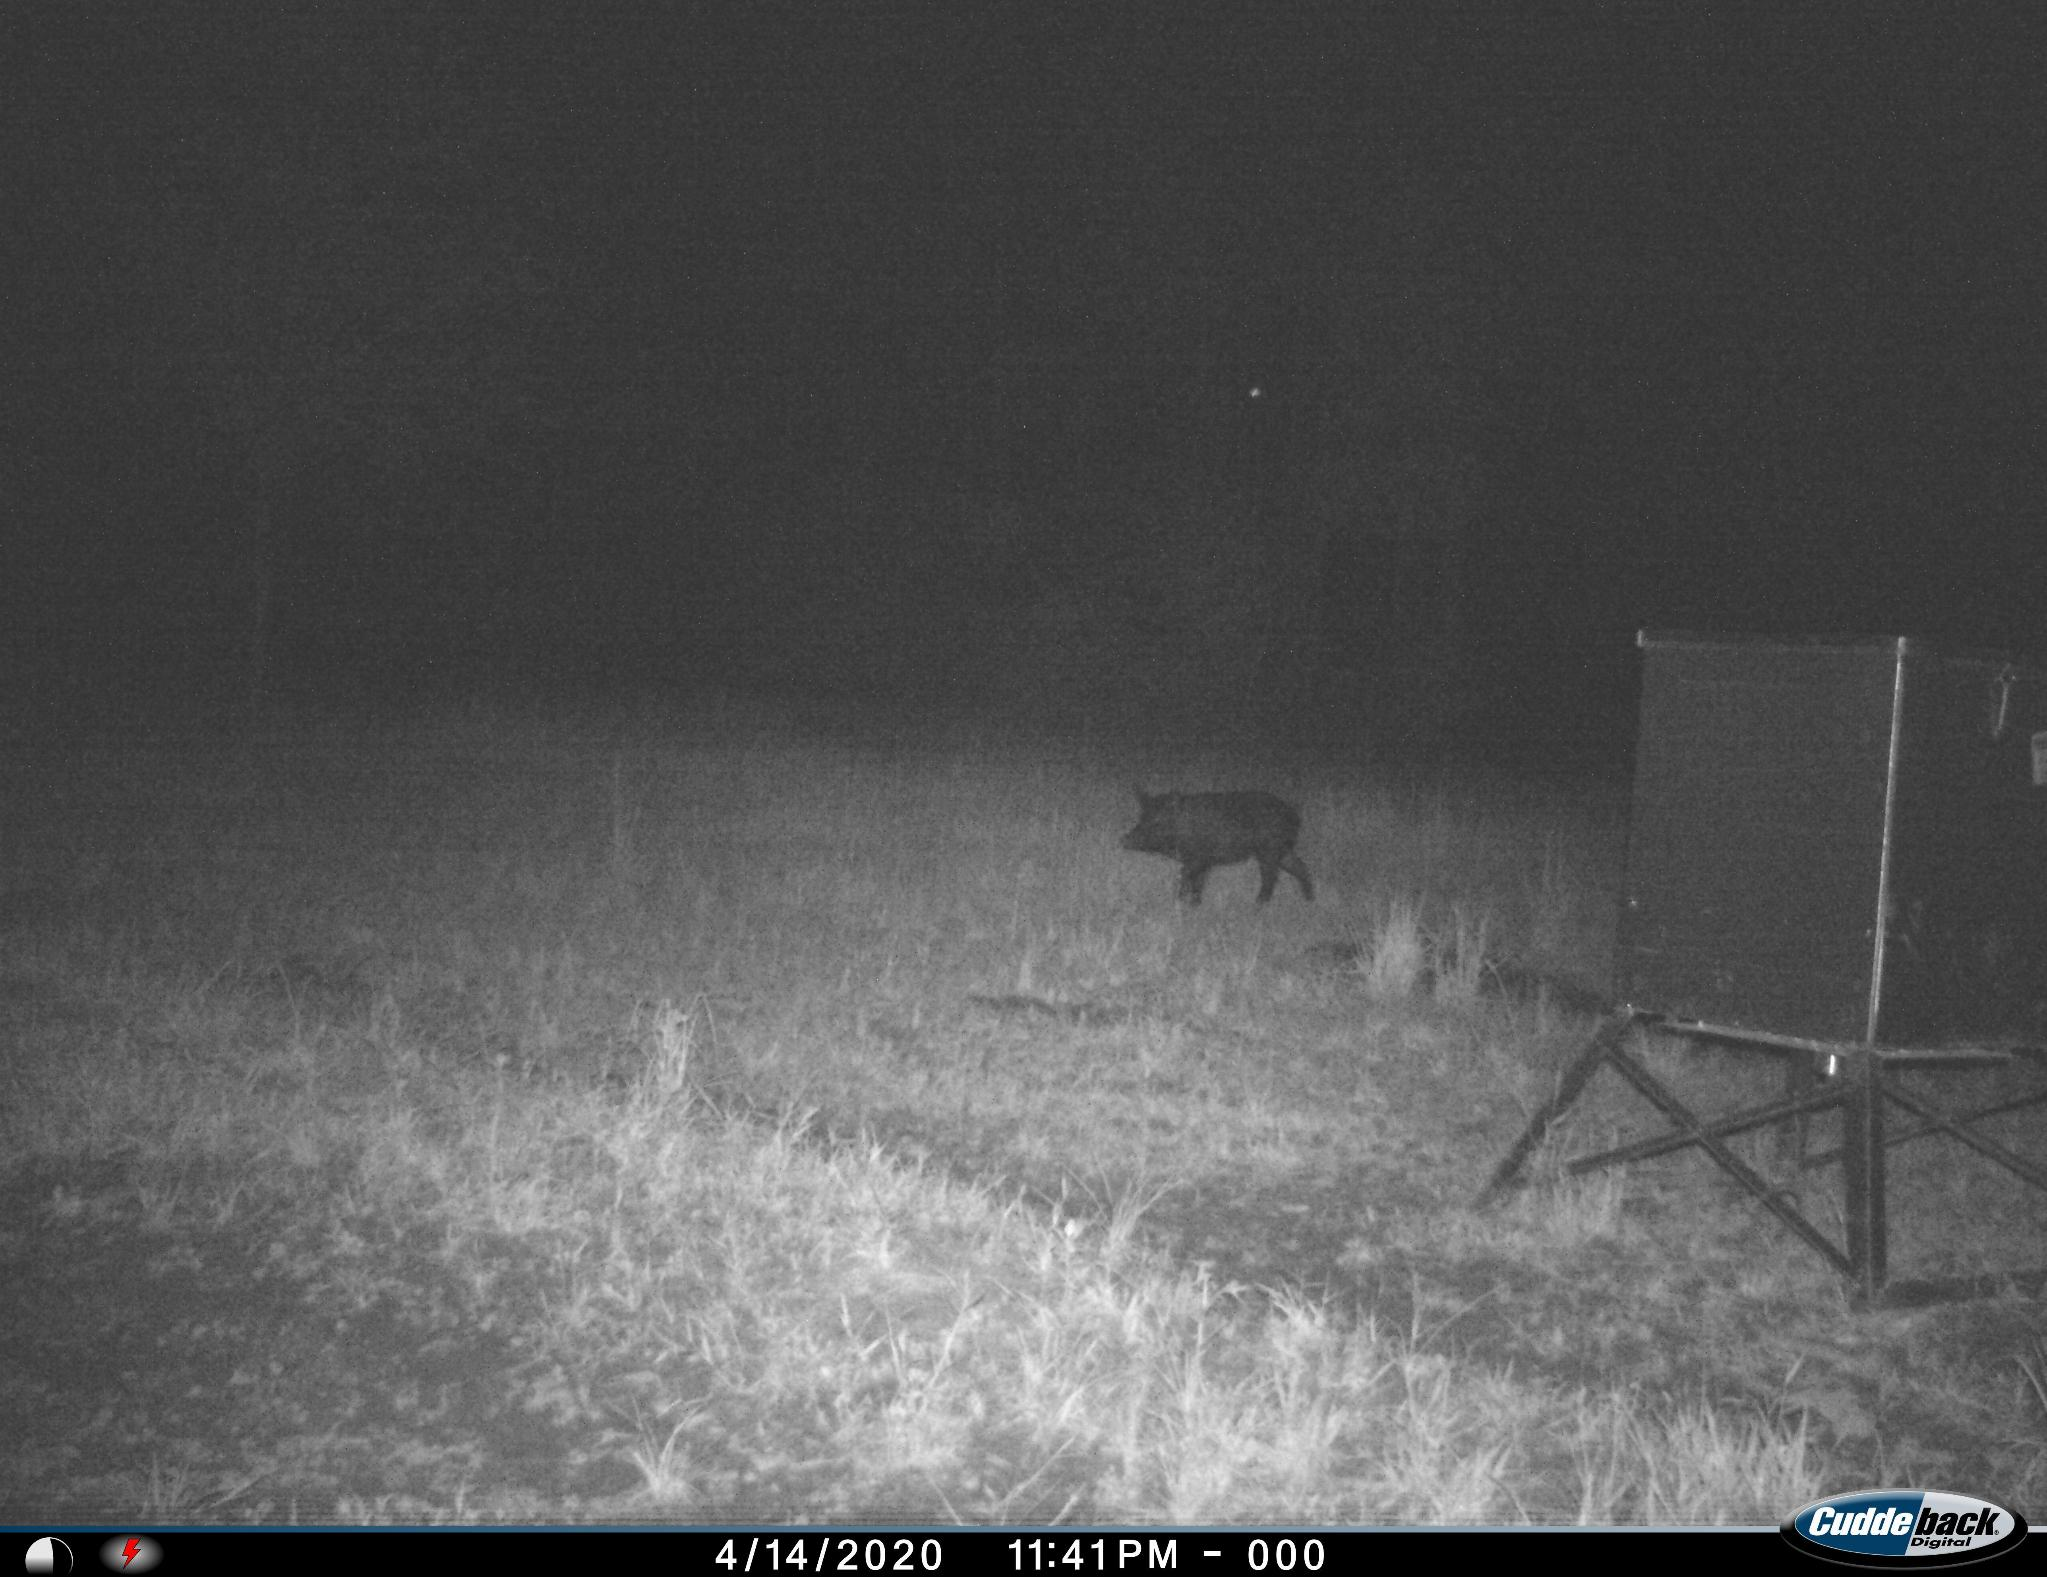Hog: (1105, 775, 1328, 924)
